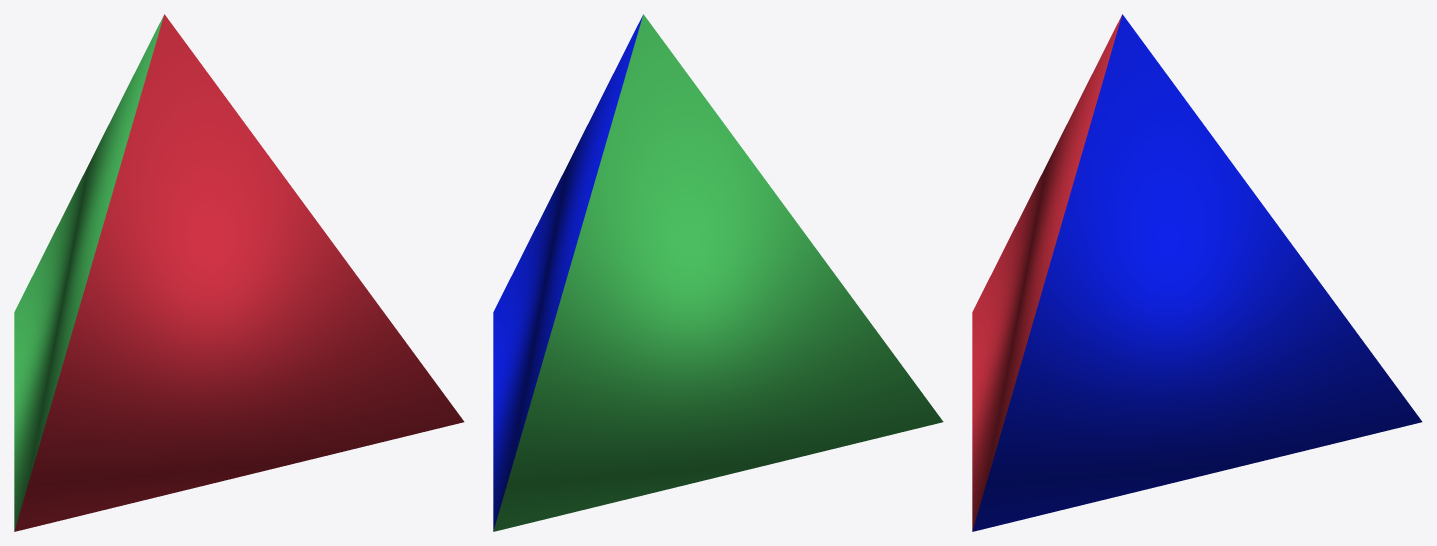
The model's file is EquilateralPyramidMaterials.fbx.
3 views of the same model, side by side, from view 1: azimuth 30°, elevation 25°; view 2: azimuth 150°, elevation 25°; view 3: azimuth 270°, elevation 25° (orthographic).
Visible parts, largest first — view 1: Cylinder; view 2: Cylinder; view 3: Cylinder.
Boxes of the visible parts, x1,y1,x2,y2 form: Cylinder: (14,14,464,531); Cylinder: (493,14,943,531); Cylinder: (972,14,1422,531).
Size of the model in its own units: 0.866 by 0.75 by 0.75.
